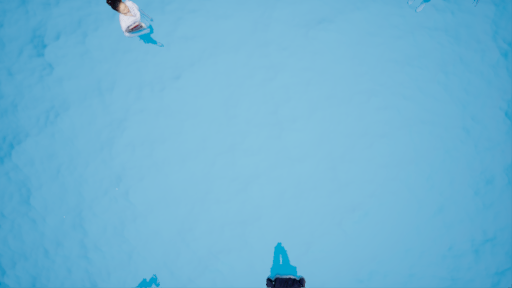person: (105, 1, 170, 51), (260, 235, 314, 288)
